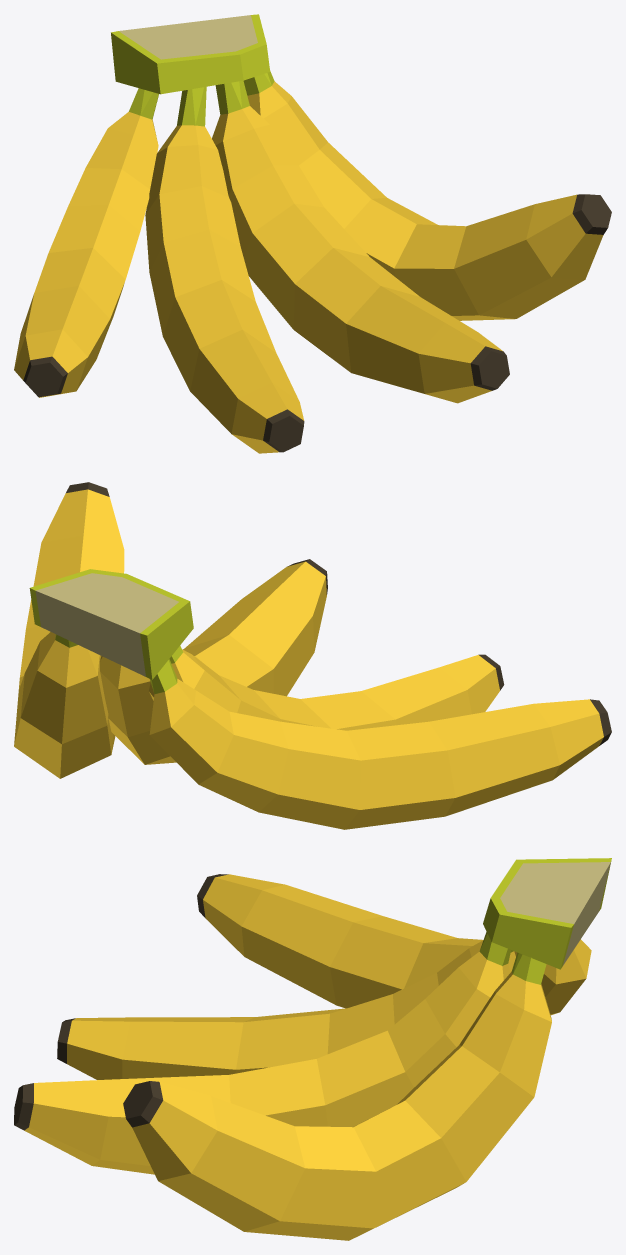
File: Banana.fbx
3 renders of one model, top to bottom at view 1: azimuth 30°, elevation 25°; view 2: azimuth 150°, elevation 25°; view 3: azimuth 270°, elevation 25°, orthographic. The views are drawn at different scales.
Visible parts, largest first — view 1: Banana; view 2: Banana; view 3: Banana.
Boxes of the visible parts, x1,y1,x2,y2 form: Banana: (14,14,611,453); Banana: (14,482,611,829); Banana: (14,858,611,1240).
Size of the model in its own units: 6.84 by 2.95 by 5.8.
1 material, 1 textured.
